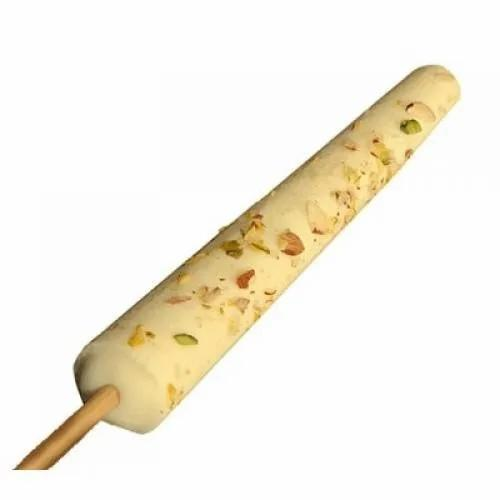Kulfi: (74, 65, 459, 434)
